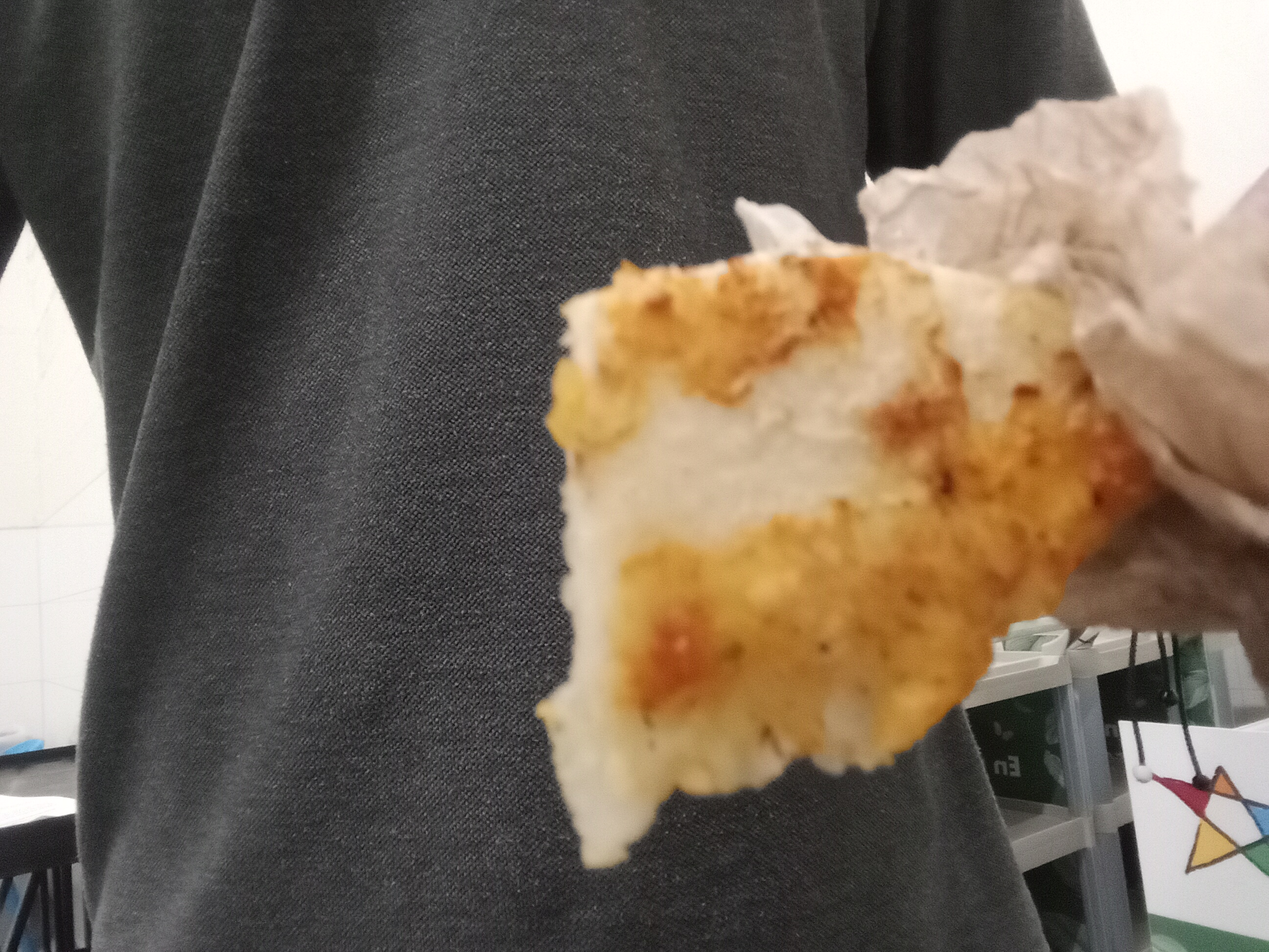Organico: (527, 251, 1157, 871)
